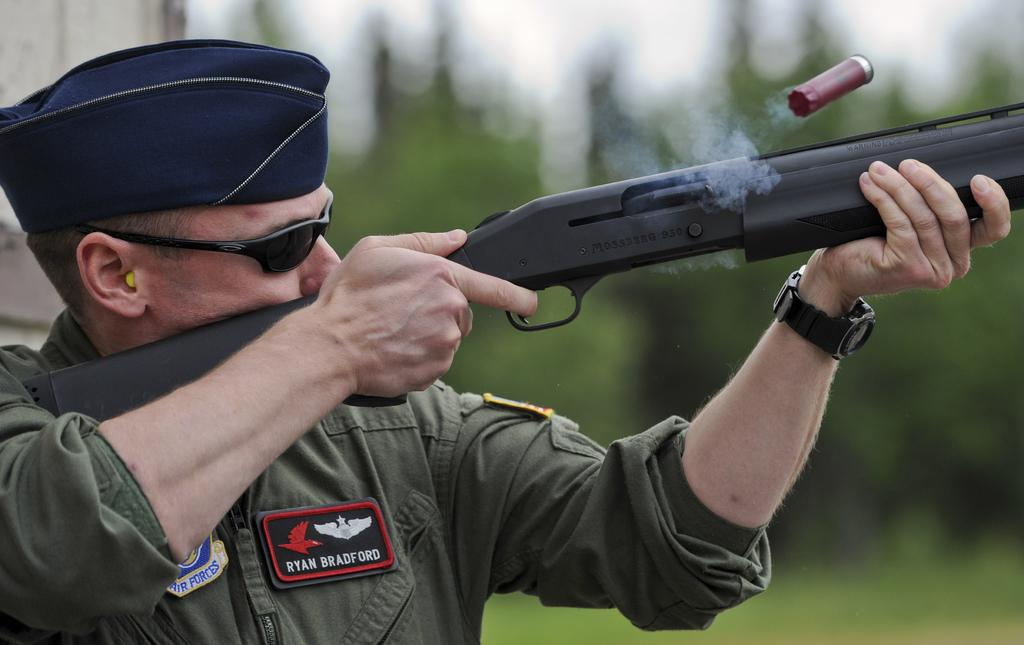Shotgun: (17, 98, 1023, 419)
